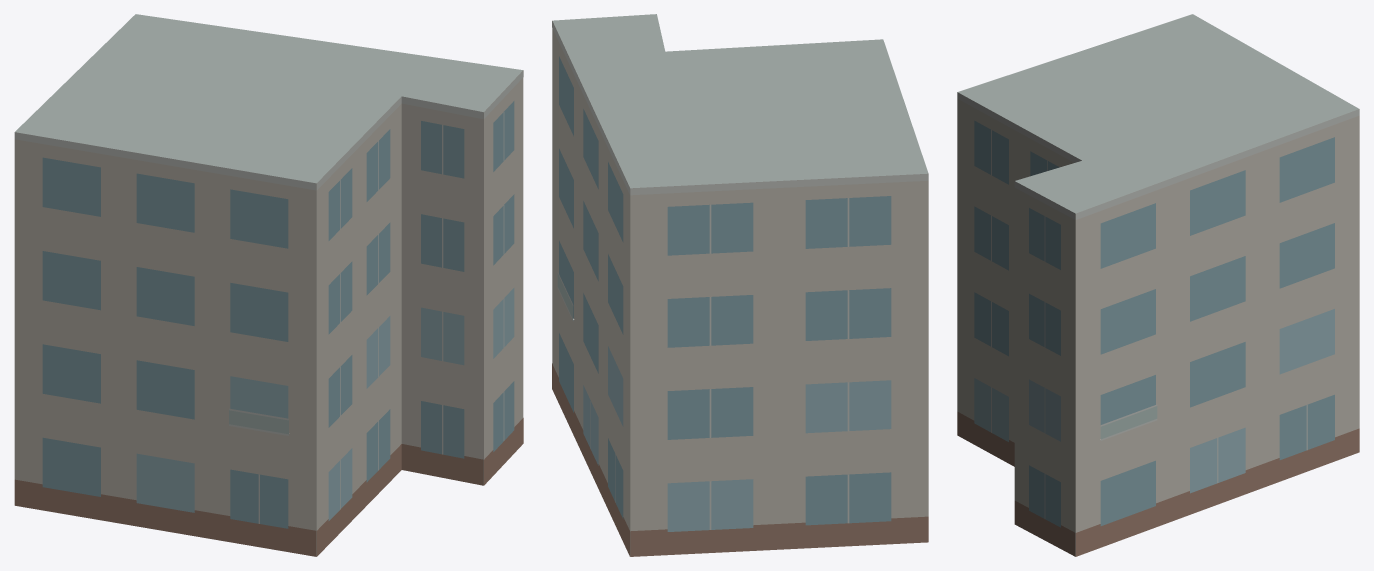
The model's file is survey-upis-32961103.glb.
The picture shows the model from 3 angles, left to right: view 1: azimuth 30°, elevation 25°; view 2: azimuth 150°, elevation 25°; view 3: azimuth 270°, elevation 25°; orthographic projection. The views are drawn at different scales.
Parts seen in each view (by area): view 1: survey-upis-32961103.tmp; view 2: survey-upis-32961103.tmp; view 3: survey-upis-32961103.tmp.
Boxes of the visible parts, box(x1,y1,x2,y2) form: survey-upis-32961103.tmp: box(14, 14, 523, 556); survey-upis-32961103.tmp: box(552, 14, 928, 556); survey-upis-32961103.tmp: box(957, 14, 1359, 556).
Size of the model in its own units: 15.97 by 12.8 by 13.6.
